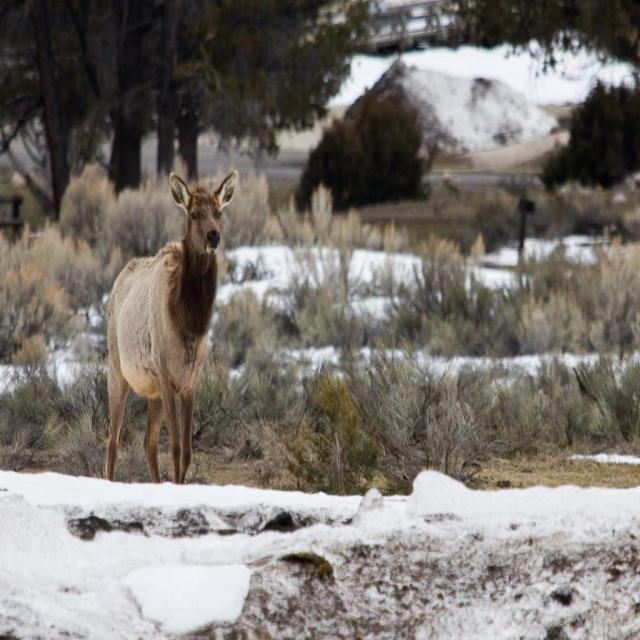Deer: (105, 168, 234, 482)
